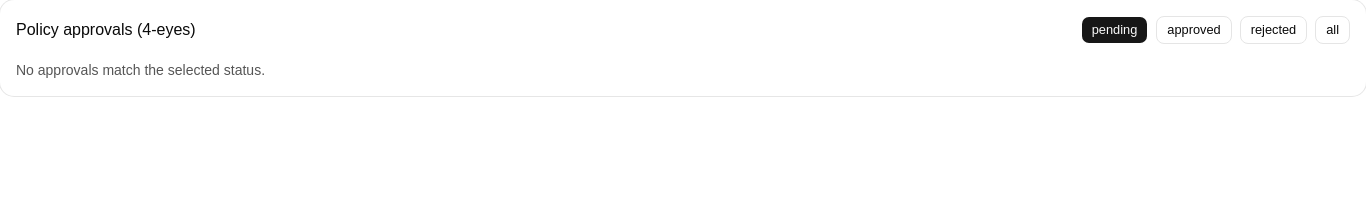
ApprovalsPage › renders an approved card with no approved_at timestamp without crashing
This screenshot has width=1366, height=206.
Click the button "approved": coordinates (1194, 30) [1156, 16, 1232, 44]
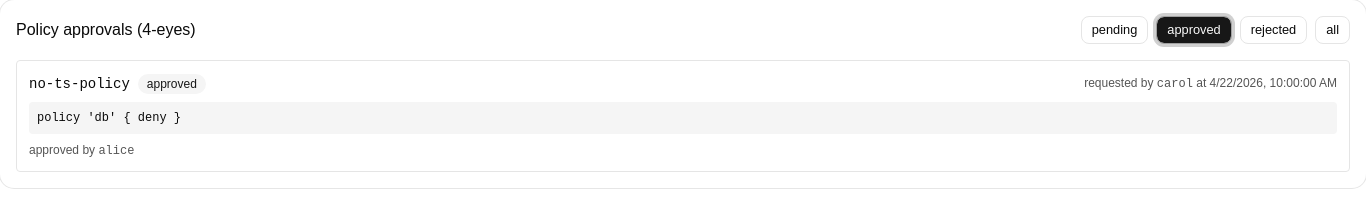
Expected: the text "no-ts-policy" is shown, [29, 76, 130, 92]
Expected: the text "approved by alice" is shown, [29, 143, 134, 158]
